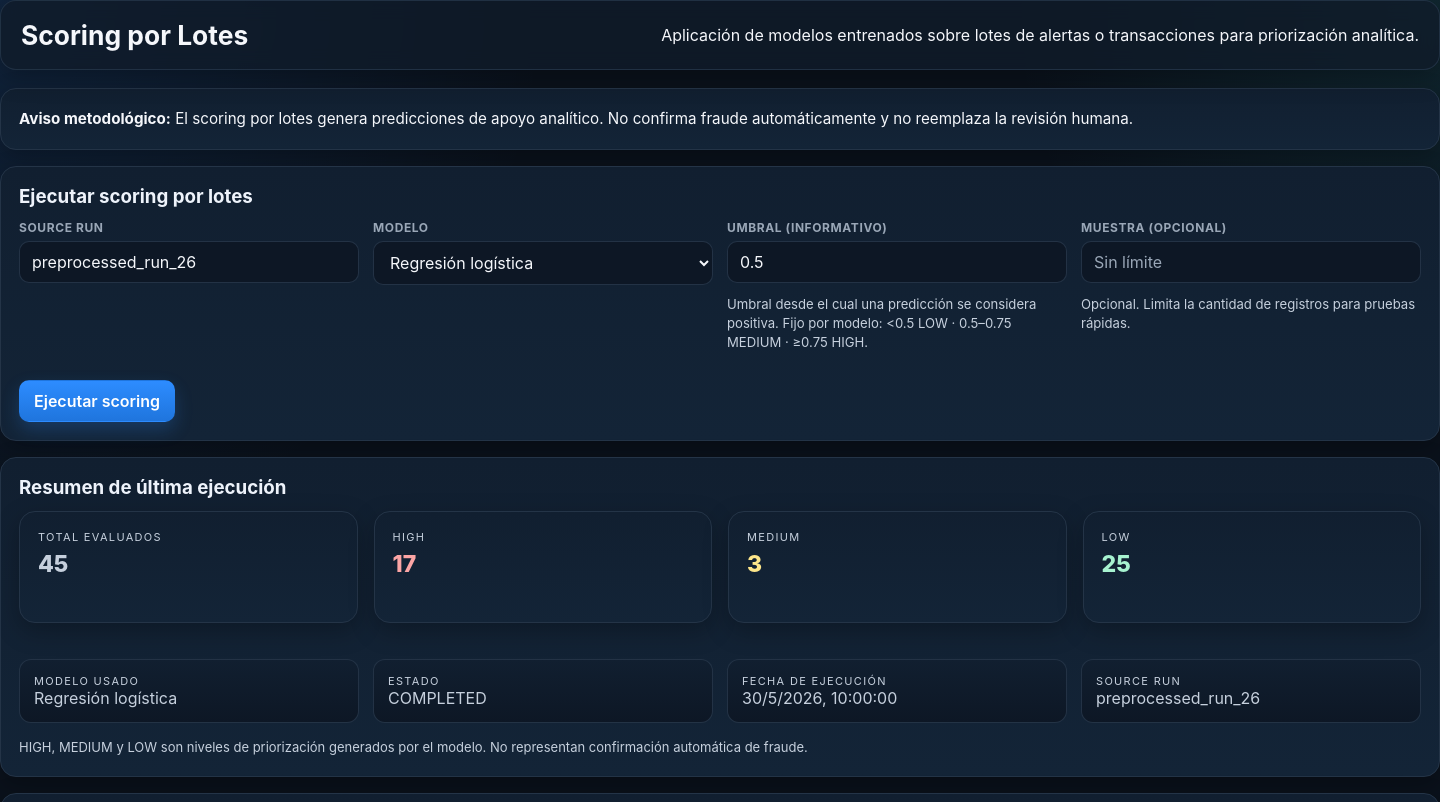
Test case: BatchScoring – Fase D2 › deshabilita el botón durante la ejecución de scoring
The width and height of the screenshot is (1440, 802).
Step 1. Click the button "Ejecutar scoring" → (97, 401), box [19, 380, 175, 422]
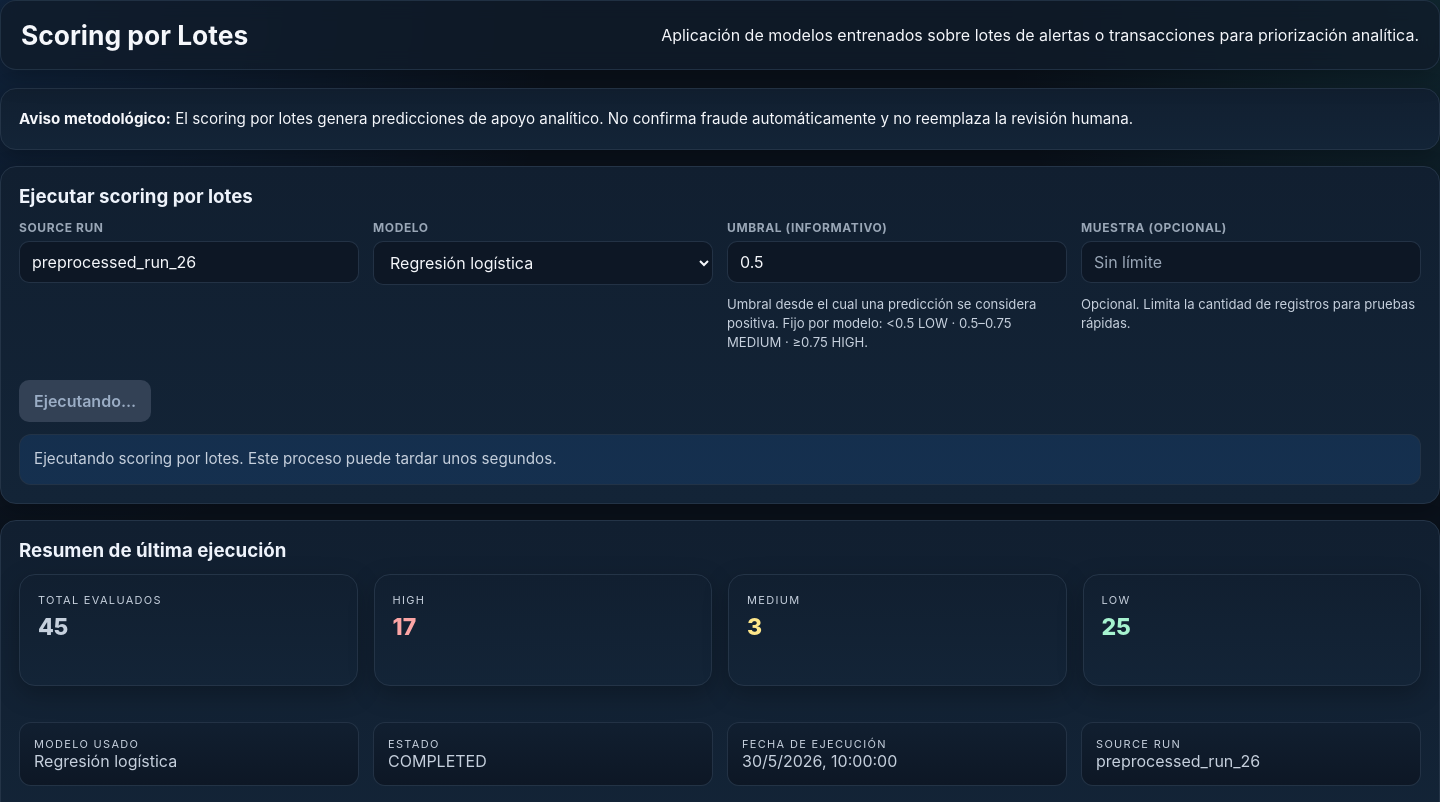
Now the button "Ejecutando..." is shown, box [19, 380, 151, 422]
